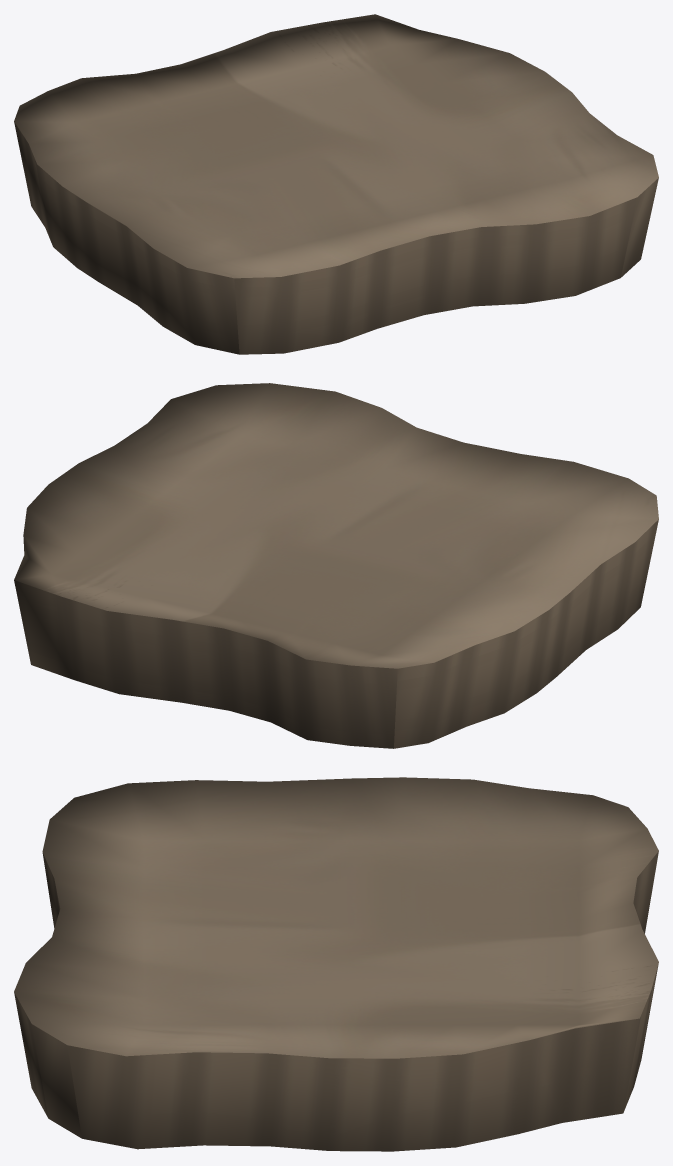
Rendered from slab_medium.fbx.
The picture shows the model from 3 angles, top to bottom: view 1: azimuth 30°, elevation 25°; view 2: azimuth 150°, elevation 25°; view 3: azimuth 270°, elevation 25°; orthographic projection. The views are drawn at different scales.
Parts seen in each view (by area): view 1: slab_medium; view 2: slab_medium; view 3: slab_medium.
Part boxes in pixels (<box>): slab_medium: <box>14,14,658,354</box>; slab_medium: <box>14,383,658,748</box>; slab_medium: <box>14,777,658,1151</box>.
Bounding box in the file's own units: 10.53 × 1.76 × 10.21.
Materials: 1 (1 with a texture image).
